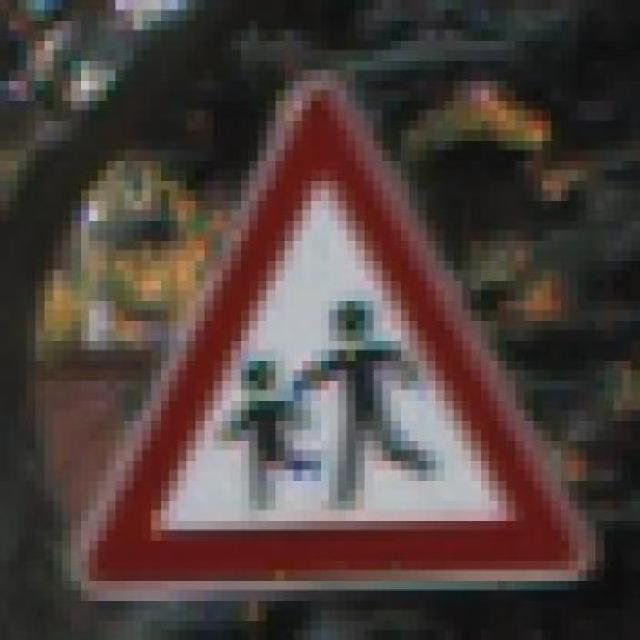Beware of children: (52, 60, 602, 611)
